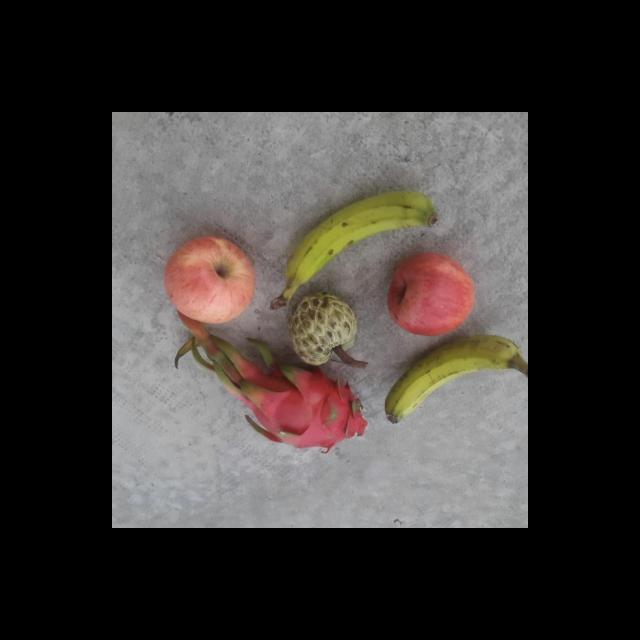Sakya fruit: (288, 288, 372, 369)
apple: (162, 228, 258, 324), (384, 250, 476, 337)
banana: (267, 187, 443, 310), (384, 334, 528, 426)
pitaya: (242, 357, 368, 453)
